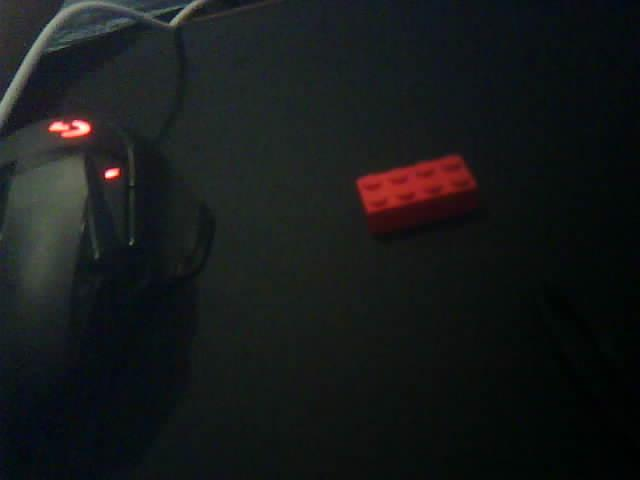lego: (353, 153, 479, 232)
